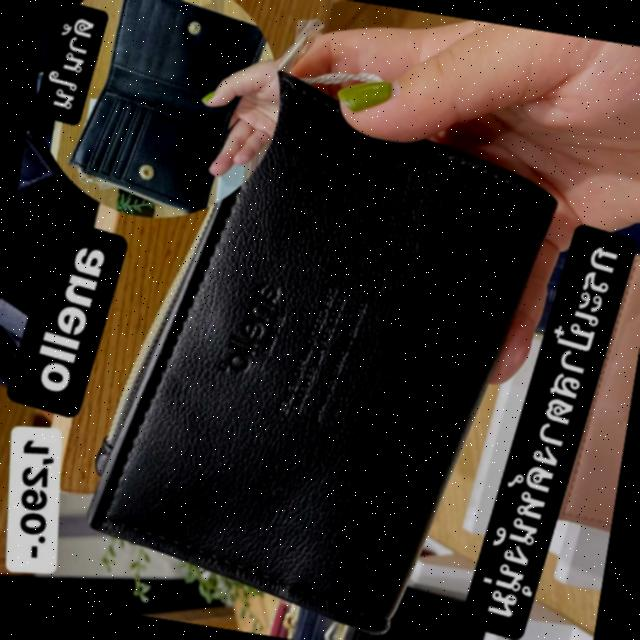Handbag: (70, 22, 571, 640)
